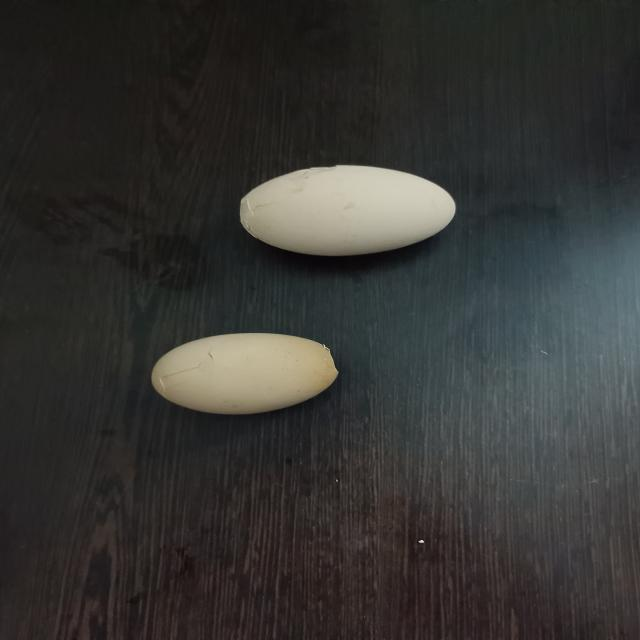biodegradable: (227, 160, 456, 253), (145, 331, 338, 413)
